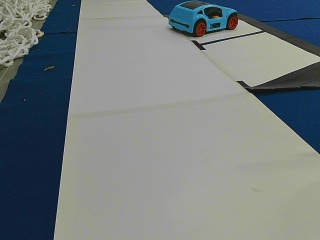car: (169, 3, 239, 36)
